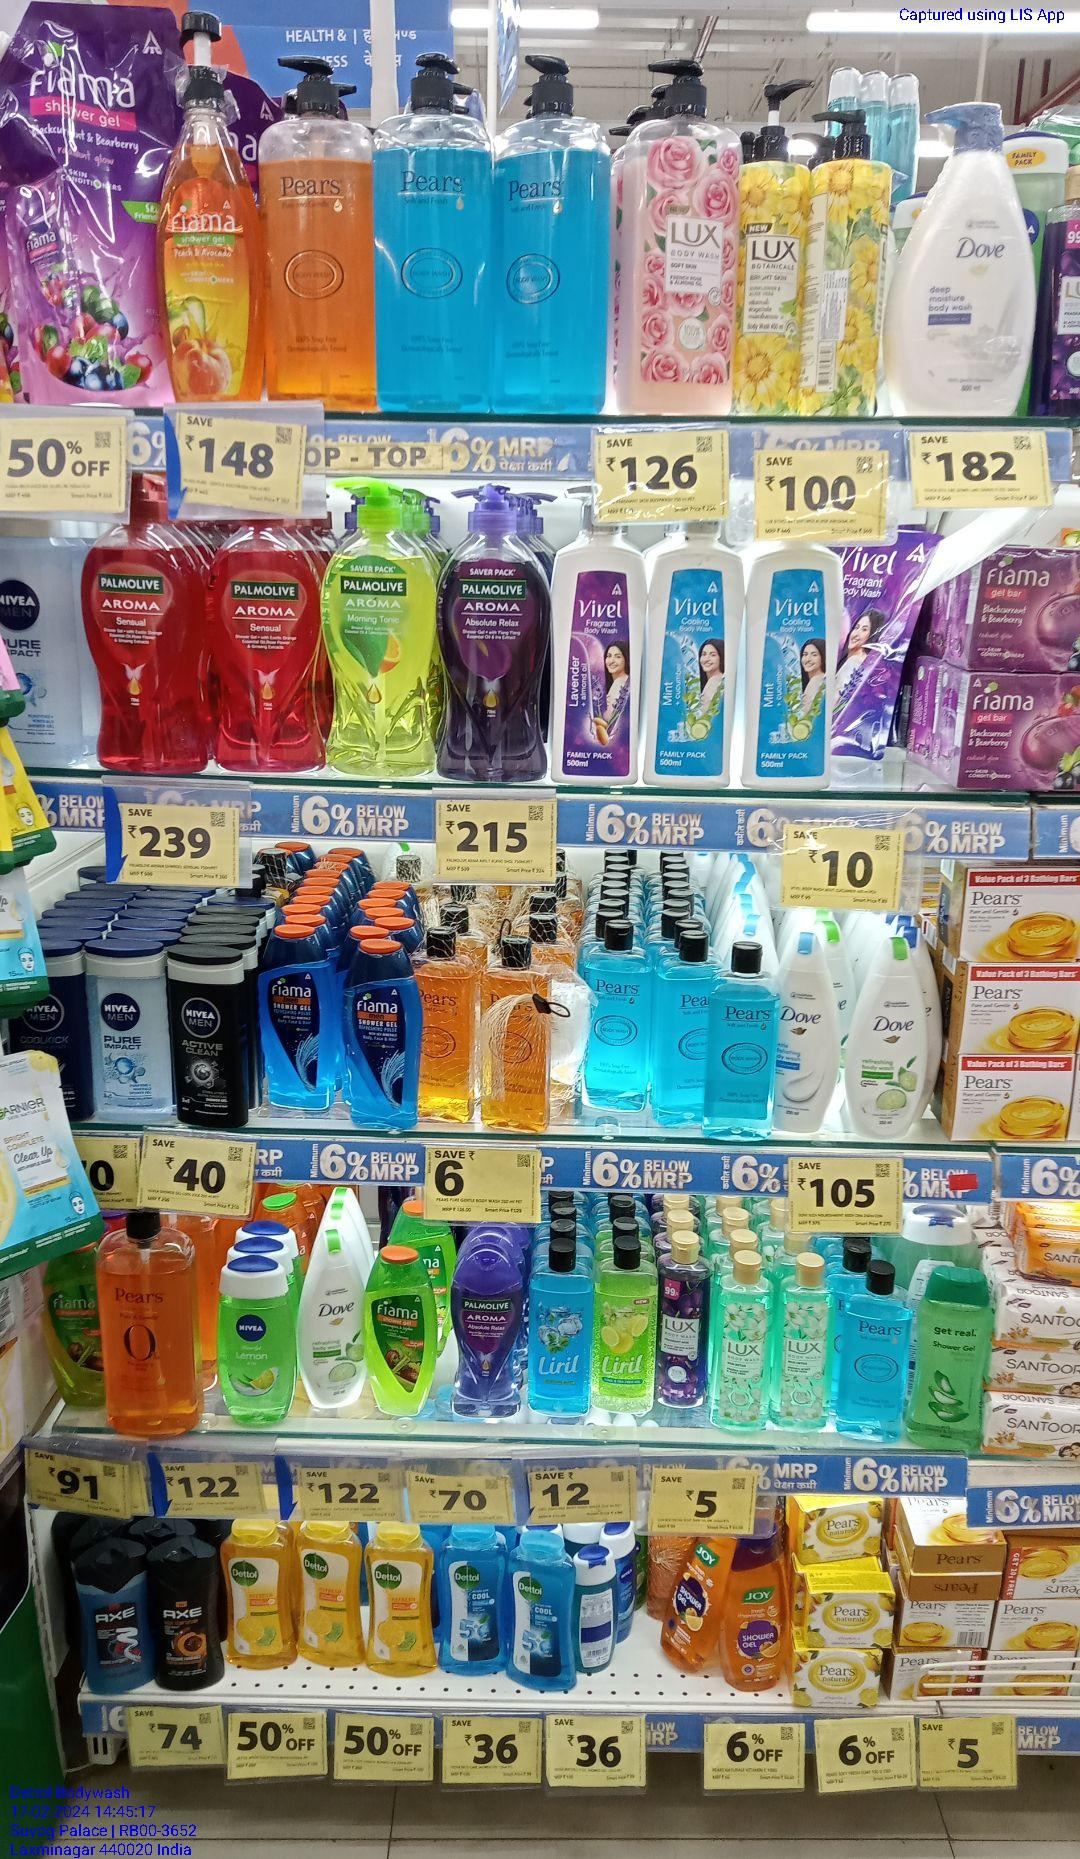Dettol_Bodywash_Cool: (509, 1531, 575, 1689), (437, 1522, 504, 1675)
Dettol_Bodywash_Refresh: (222, 1517, 294, 1671), (297, 1517, 366, 1669), (373, 1516, 435, 1676)
Dove_Gentle_Exfoliating_Body_Wash_250ML: (775, 932, 837, 1138)
Dove_Refreshing_Body_Wash_250ML: (847, 936, 923, 1136), (301, 1229, 366, 1405)
Fiama_Shower_Gel_Lemongrass_and_Jojoba_250ML: (369, 1244, 429, 1417)
Joy_Shower_Gel_Mandarin_and_Lemongrass_250ML: (723, 1529, 783, 1694)
Liril_Cooling_Mint_Body_Wash_250ML: (523, 1241, 593, 1419)
Liril_Lime_and_Tea_Tree_Oil_Body_Wash_250ML: (595, 1235, 653, 1409)
Lux_Black_Orchid_Scent_and_Juniper_Oil_Body_Wash_245ML: (657, 1233, 705, 1409)
Lux_Body_Wash_Skin_Detox_Freesia_Scent_and_Alove_Vera_245ML: (774, 1252, 829, 1435), (714, 1252, 769, 1428)
Nivea_Shower_Gel_Lemon_and_Oil_250ML: (215, 1257, 296, 1428)
Palmolive_Aroma_Relax_250ML: (450, 1250, 521, 1418)
Pears_Pure_Glycerin_and_Mint_Extracts_Body_Wash_250ML: (833, 1259, 908, 1444), (707, 938, 771, 1135), (584, 922, 648, 1112), (654, 928, 701, 1124)
